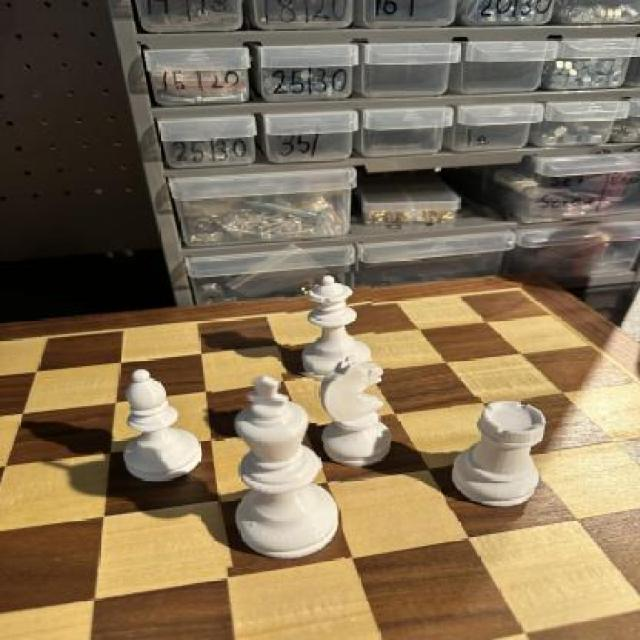black-rook: (114, 368, 204, 484)
white-bishop: (214, 372, 342, 566)
white-king: (316, 360, 396, 468)
white-pawn: (285, 273, 376, 382)
white-queen: (448, 397, 550, 513)
